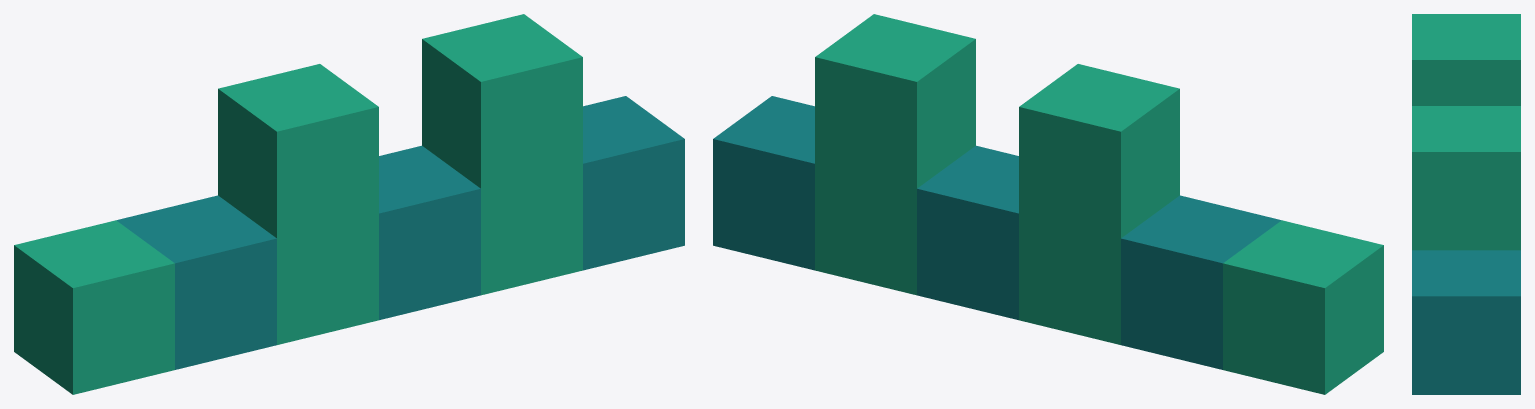
The model's file is Spectral Grass.glb.
The picture shows the model from 3 angles, left to right: view 1: azimuth 30°, elevation 25°; view 2: azimuth 150°, elevation 25°; view 3: azimuth 270°, elevation 25°; orthographic projection. The views are drawn at different scales.
Parts seen in each view (by area): view 1: generated(Clone); view 2: generated(Clone); view 3: generated(Clone).
Boxes of the visible parts, box(x1,y1,x2,y2) form: generated(Clone): box(14, 14, 684, 394); generated(Clone): box(713, 14, 1383, 394); generated(Clone): box(1412, 14, 1520, 394).
Bounding box in the file's own units: 6 × 2 × 1.
1 material, 1 textured.
